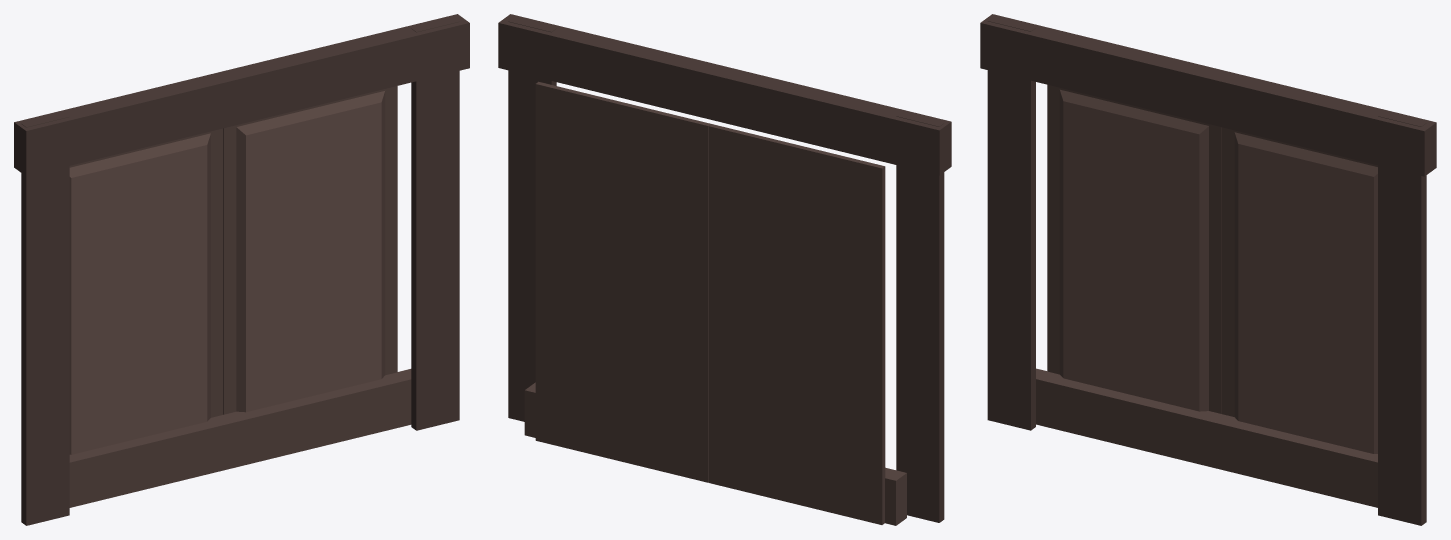
The model's file is SM_Env_Door_24.fbx.
3 views of the same model, side by side, from view 1: azimuth 30°, elevation 25°; view 2: azimuth 150°, elevation 25°; view 3: azimuth 330°, elevation 25° (orthographic).
Parts seen in each view (by area): view 1: SM_Env_Door_24; view 2: SM_Env_Door_24; view 3: SM_Env_Door_24.
Boxes of the visible parts, x1,y1,x2,y2 form: SM_Env_Door_24: (14,14,469,525); SM_Env_Door_24: (498,14,951,525); SM_Env_Door_24: (980,14,1436,525).
Size of the model in its own units: 195 by 168 by 19.02.
Materials: 1 (1 with a texture image).
